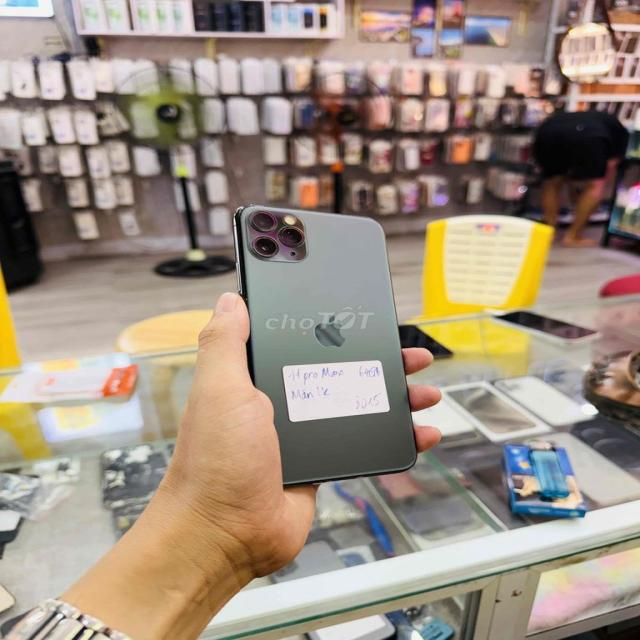gen_11: (234, 205, 416, 484)
